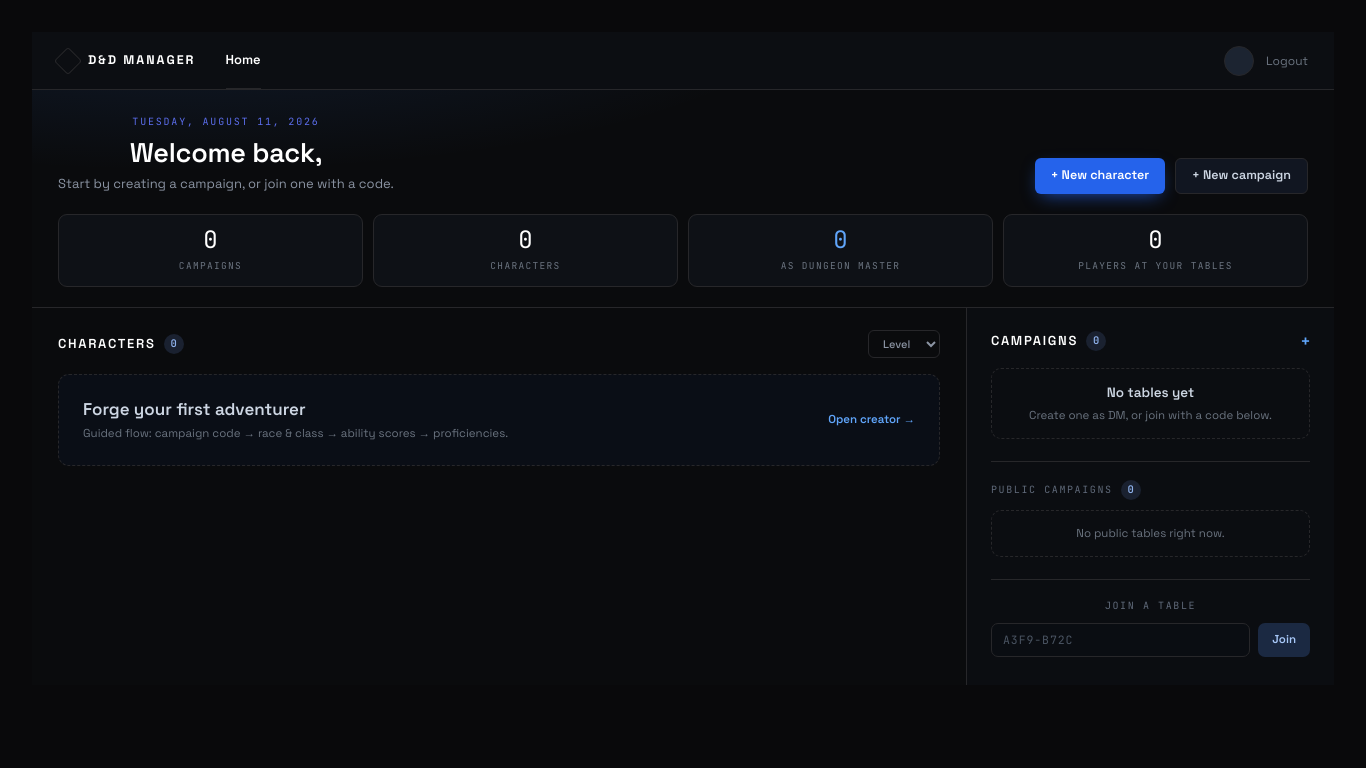
Test case: App create campaign flow › opens the character creator from the home screen
The width and height of the screenshot is (1366, 768).
Click the button "+ New character": click(1100, 176) x1=1035 y1=158 x2=1165 y2=194
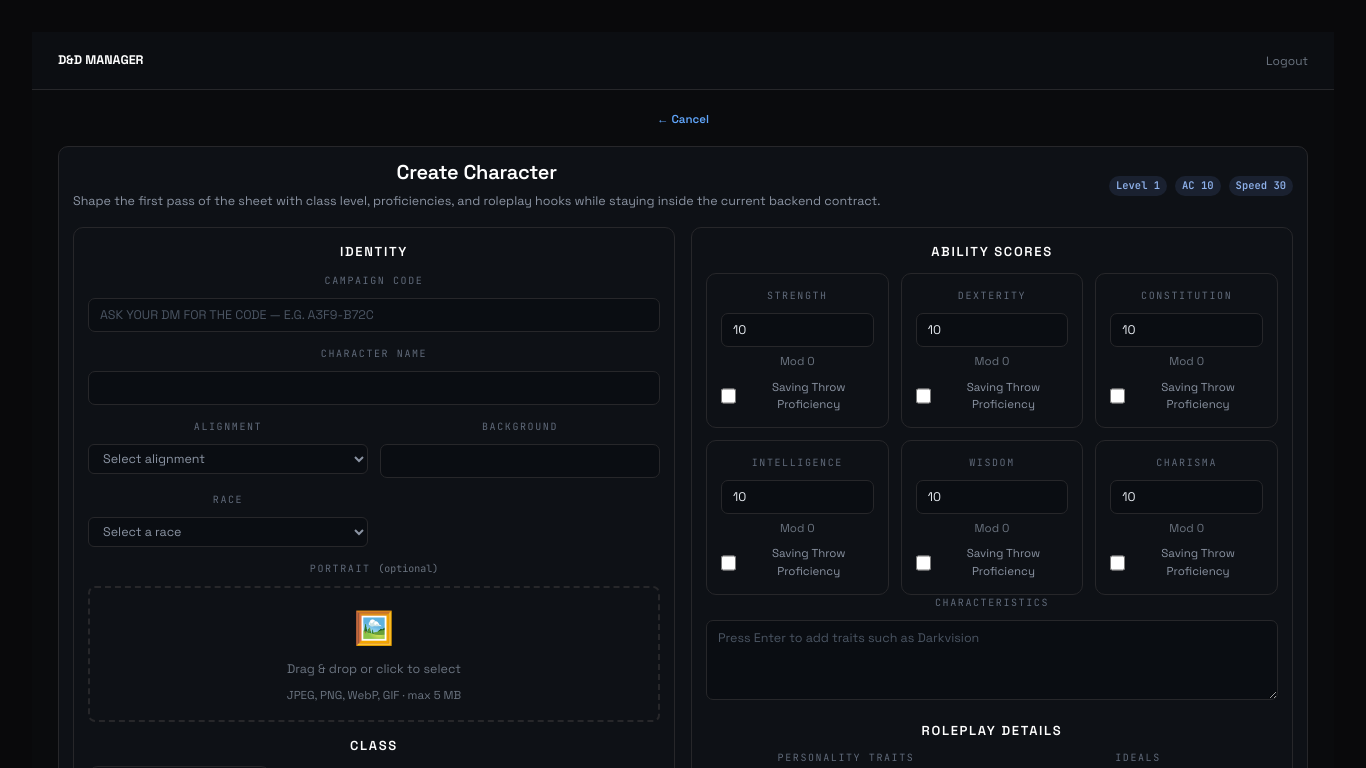
Expected: the heading "Create Character" is shown, x1=396 y1=159 x2=557 y2=185
Expected: the field labelled "Campaign Code" is shown, x1=88 y1=298 x2=660 y2=332
